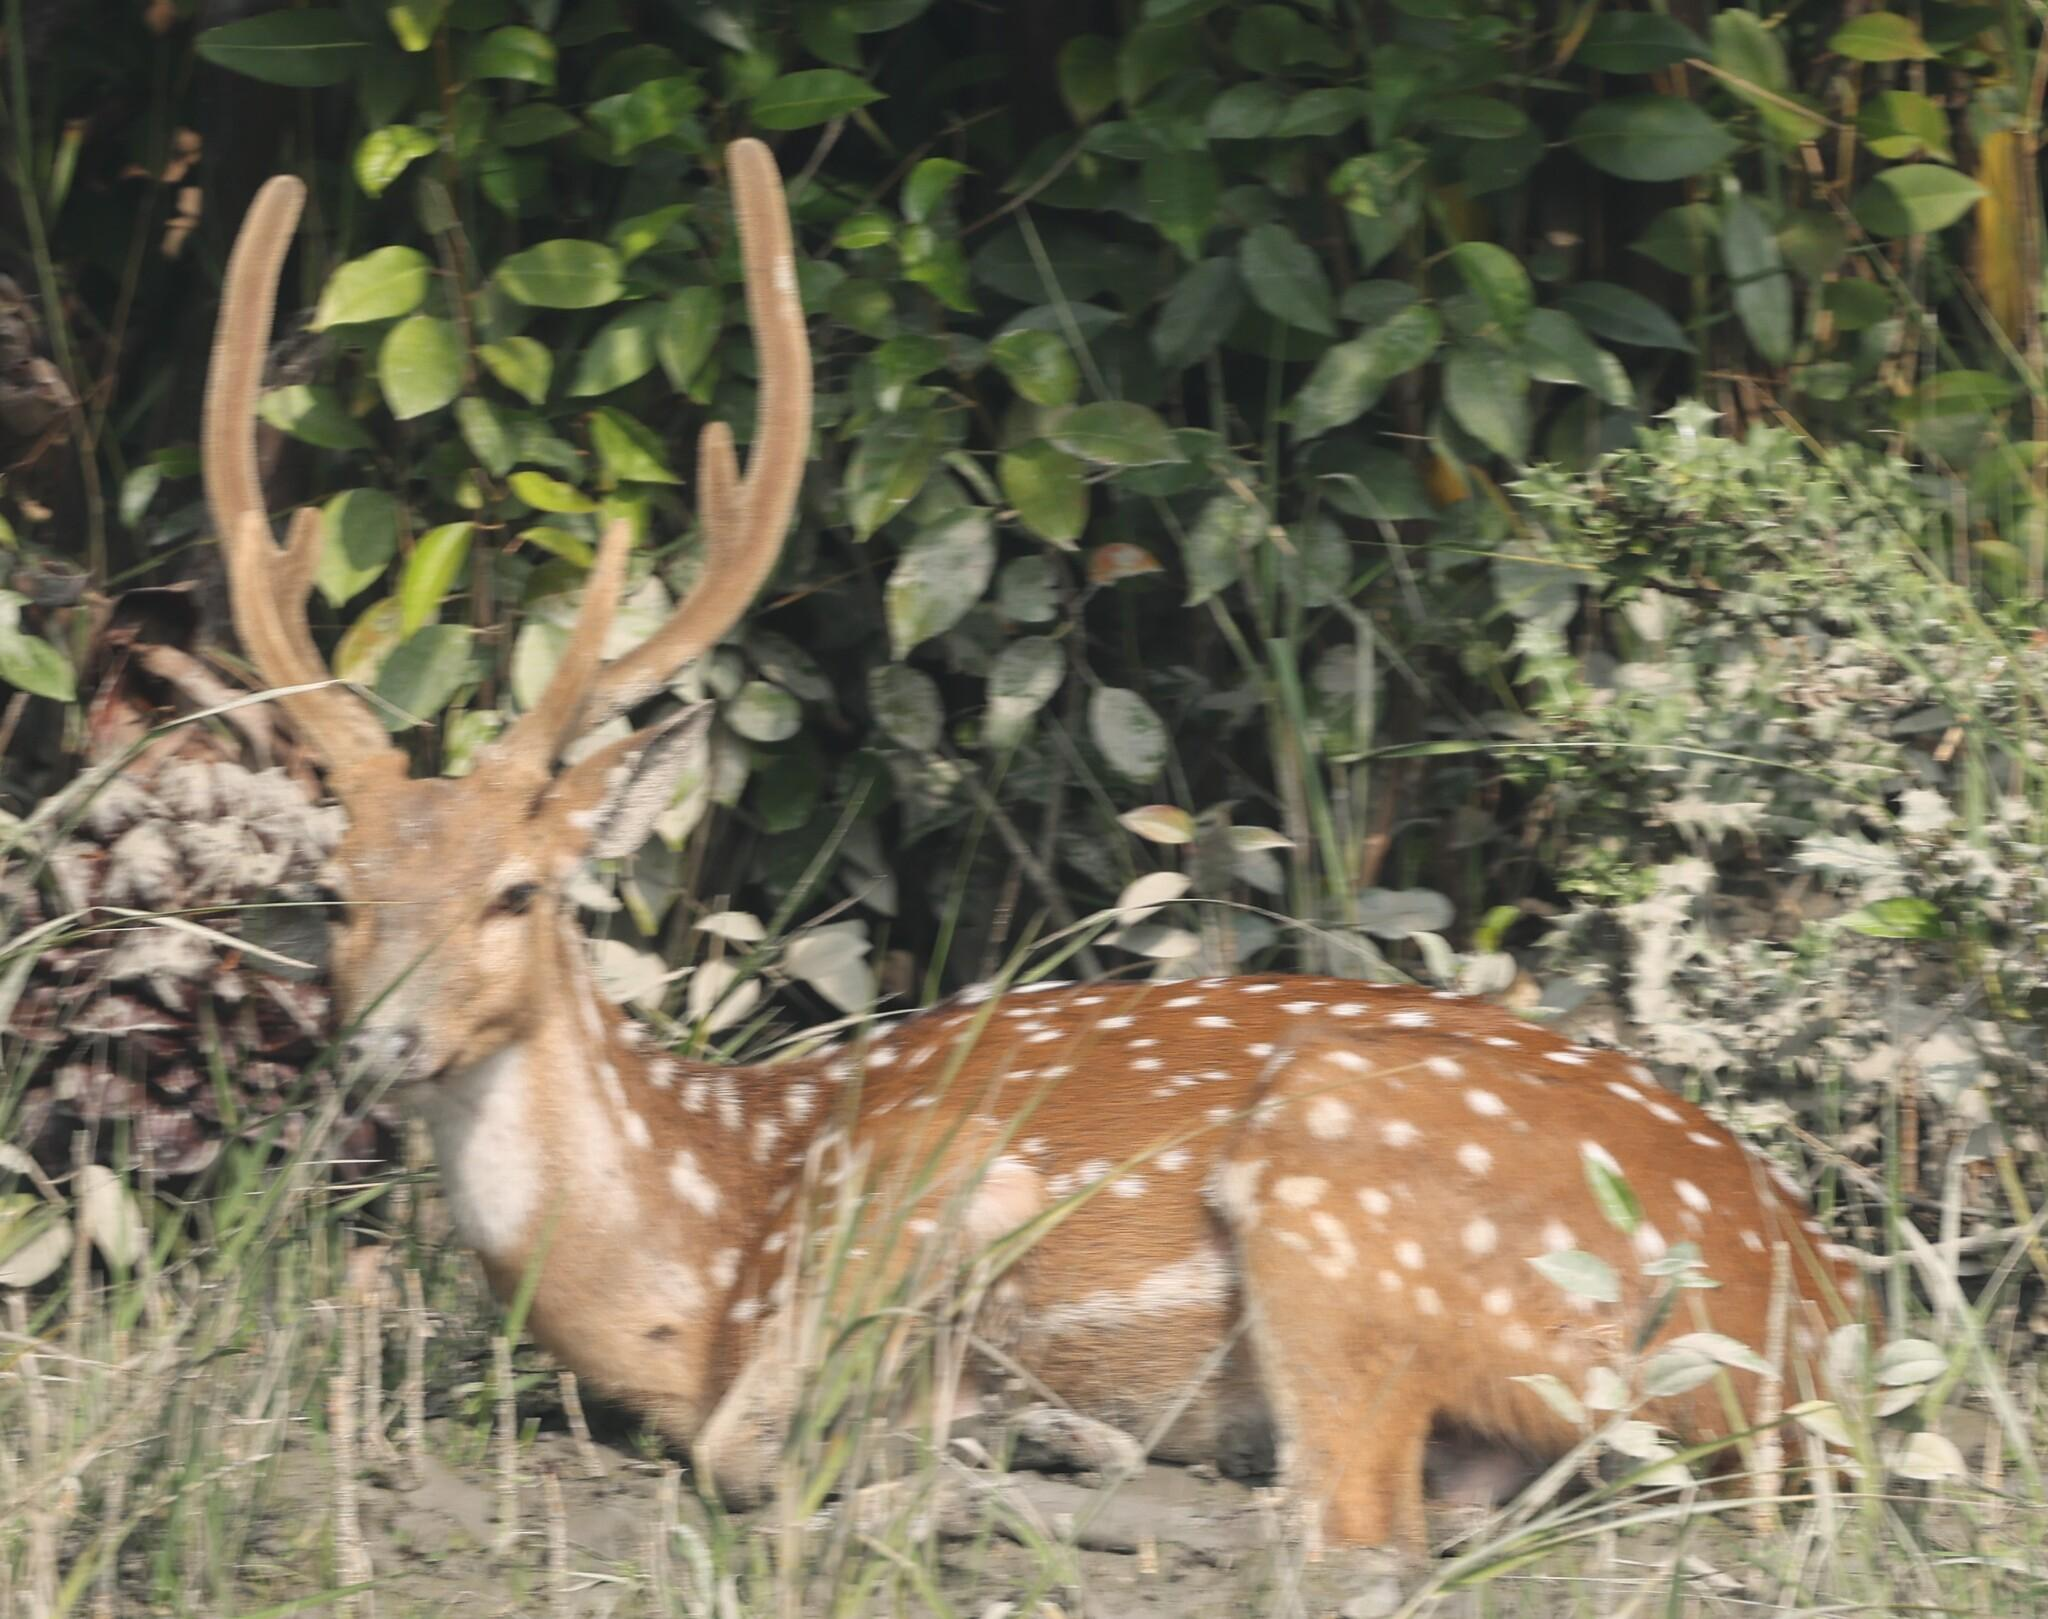Deer: (204, 140, 1854, 1548)
